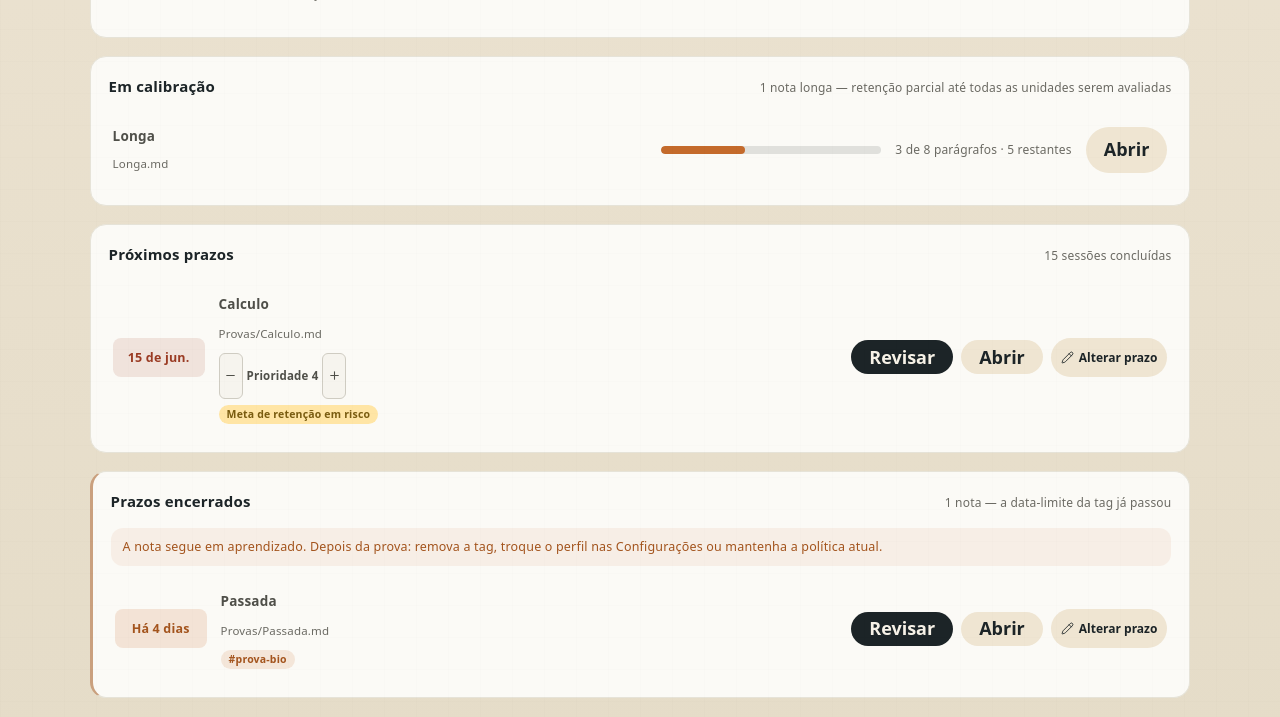
Test: ReviewDashboardPage › surfaces a preview failure inside the dialog
(page scrolled)
Step 1. Click the button with aria-label "Alterar prazo de Calculo" → {"x": 1109, "y": 357}, box [1051,338,1167,377]
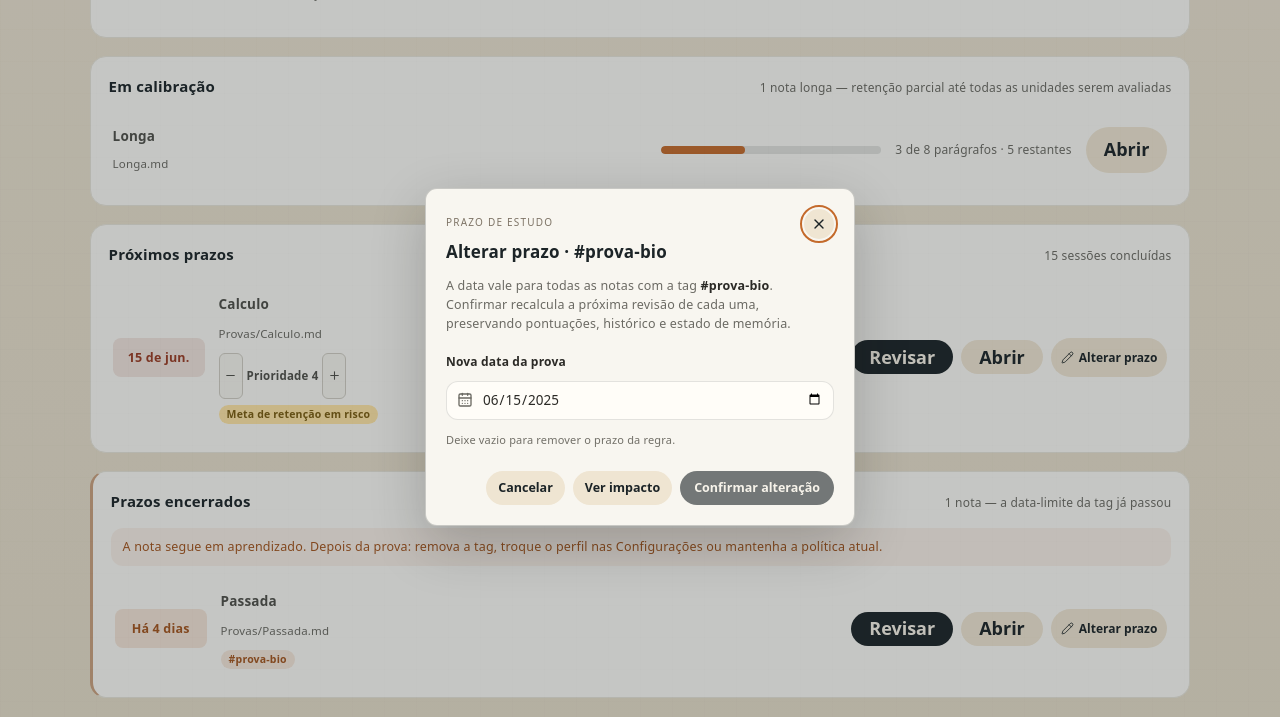
Step 2. Type "2030-05-05" into the date field labelled "Nova data da prova" → {"x": 652, "y": 400}, box [481,390,823,411]
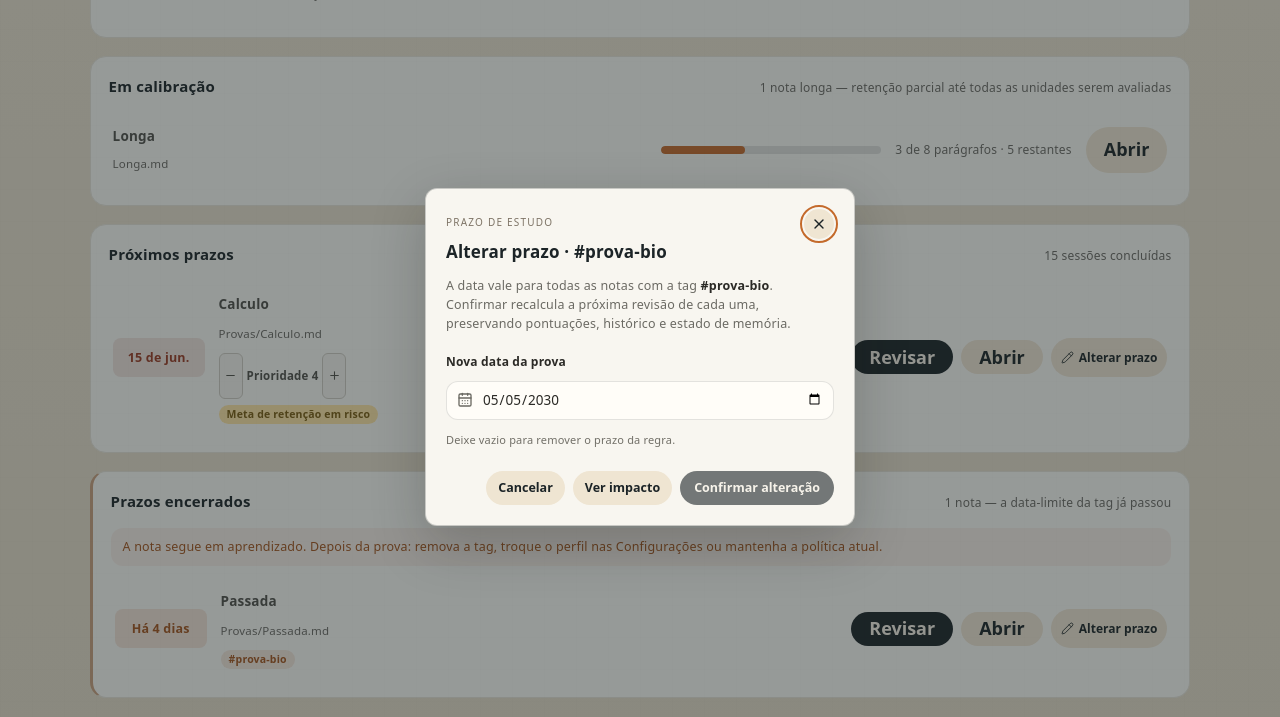
Step 3. Click the button "Ver impacto" → {"x": 622, "y": 488}, box [573,471,672,505]
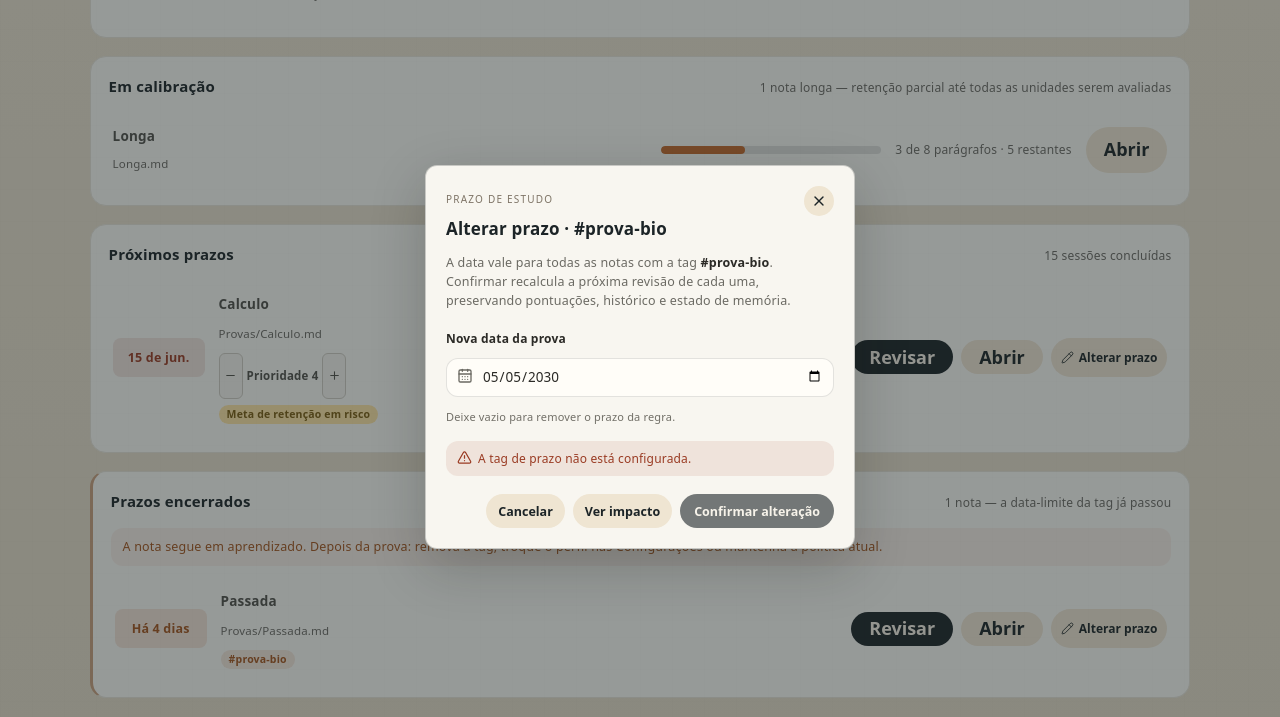
Expected: the message shows "A tag de prazo não está configurada", [478,450,691,467]
